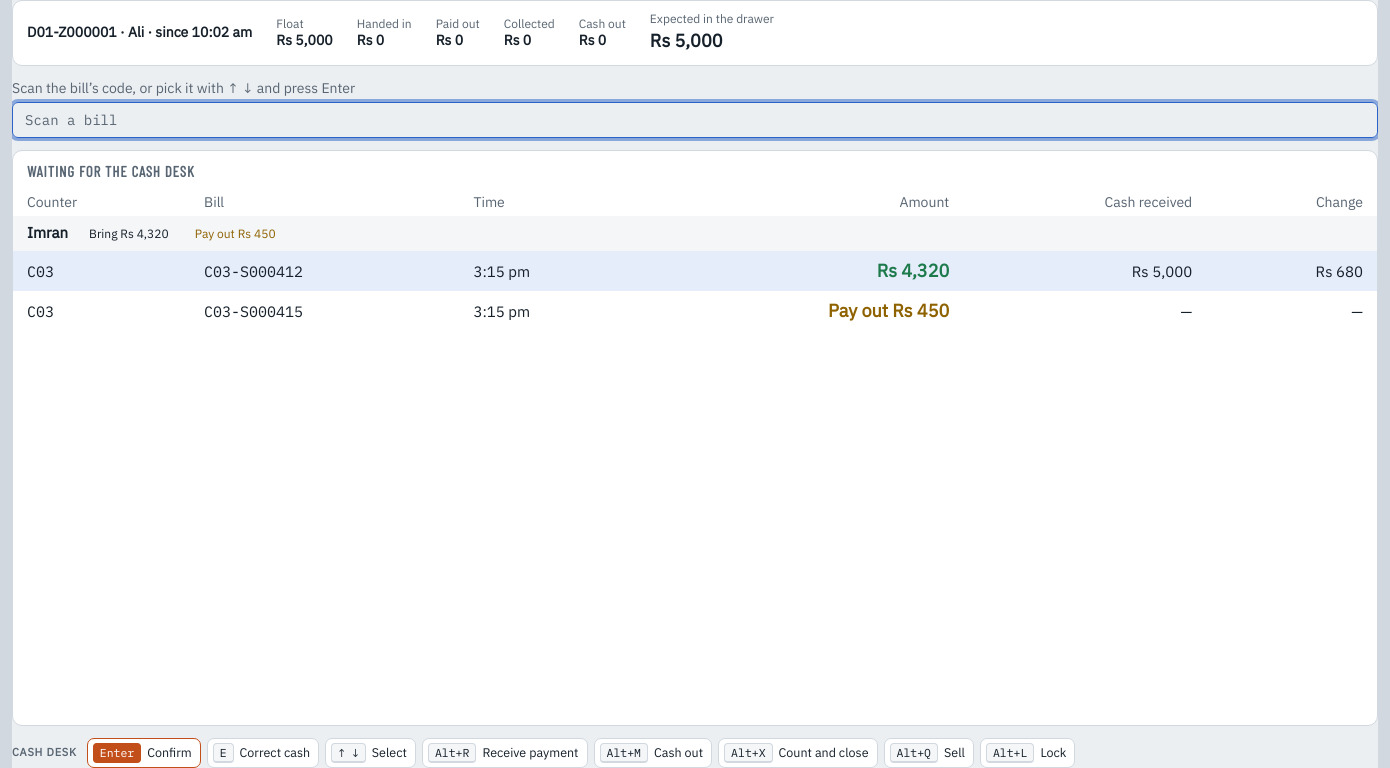
Scenario: the cash desk screen › a second scan of a bill already taken here says who took it, and writes nothing
Expected: the text "C03-S000412" is shown, top-left (196, 251), bottom-right (465, 291)
Type "C04-S000077 1250" into the field named "Scan a bill" at (695, 120), box top-left (12, 102), bottom-right (1378, 138)
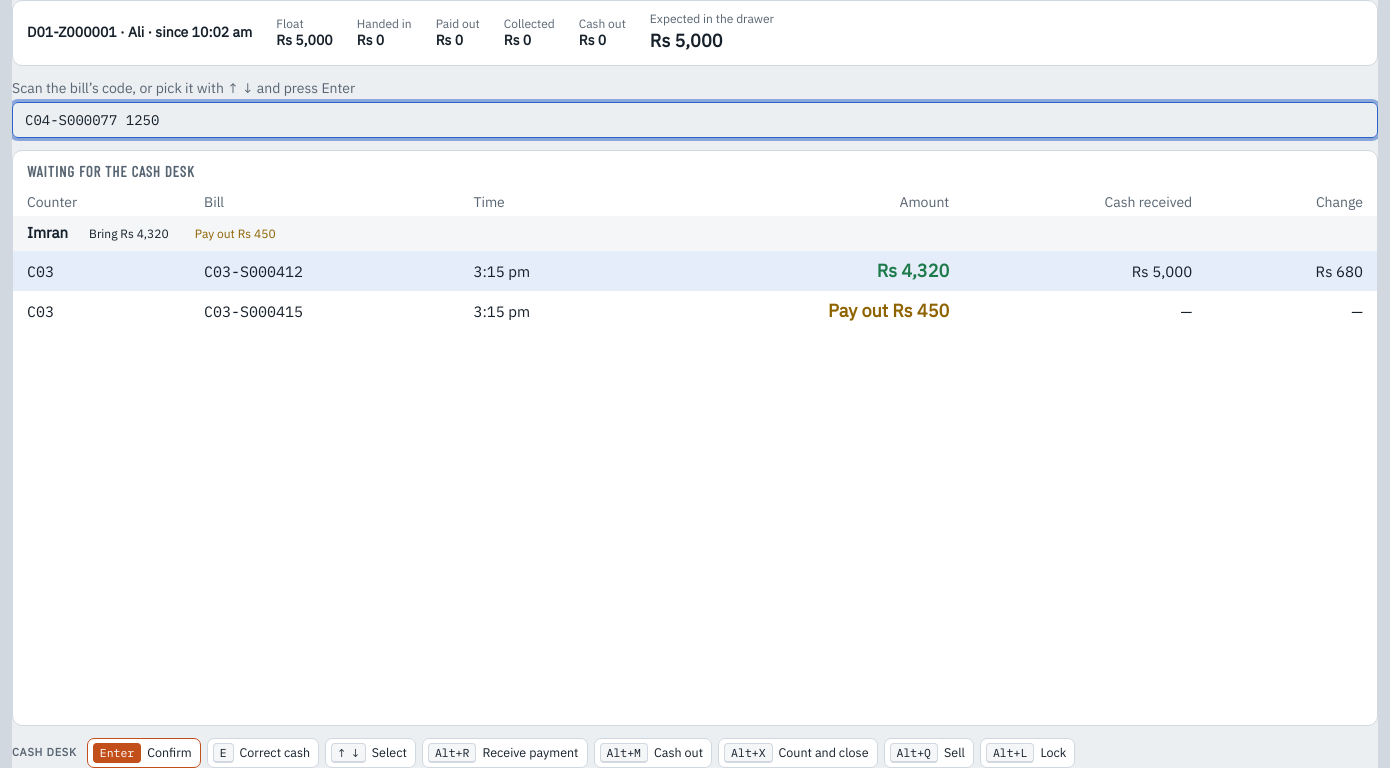
Press Enter in the field named "Scan a bill", box top-left (12, 102), bottom-right (1378, 138)
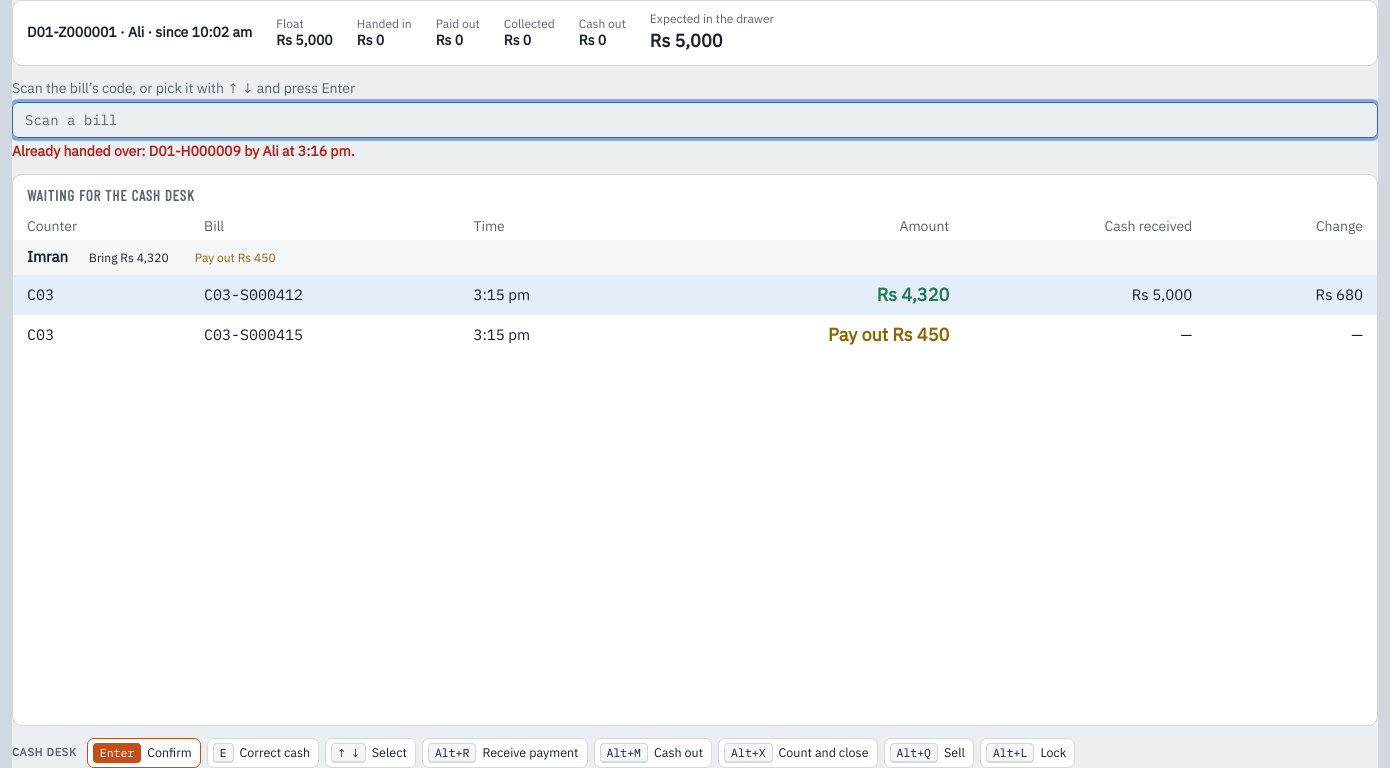
Expected: the text "Already handed over: D01-H000009 by Ali at 3:16 pm." is shown, top-left (12, 142), bottom-right (354, 160)
